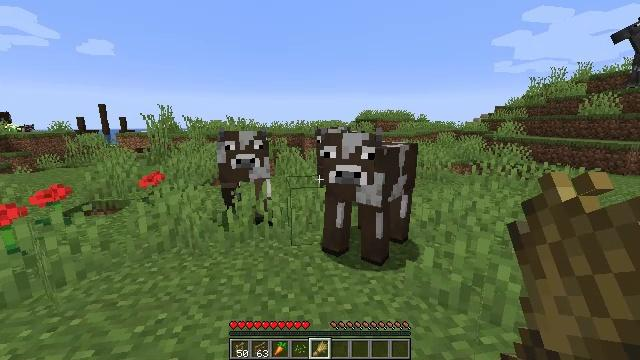cow: (323, 137, 416, 262), (217, 132, 270, 224)
